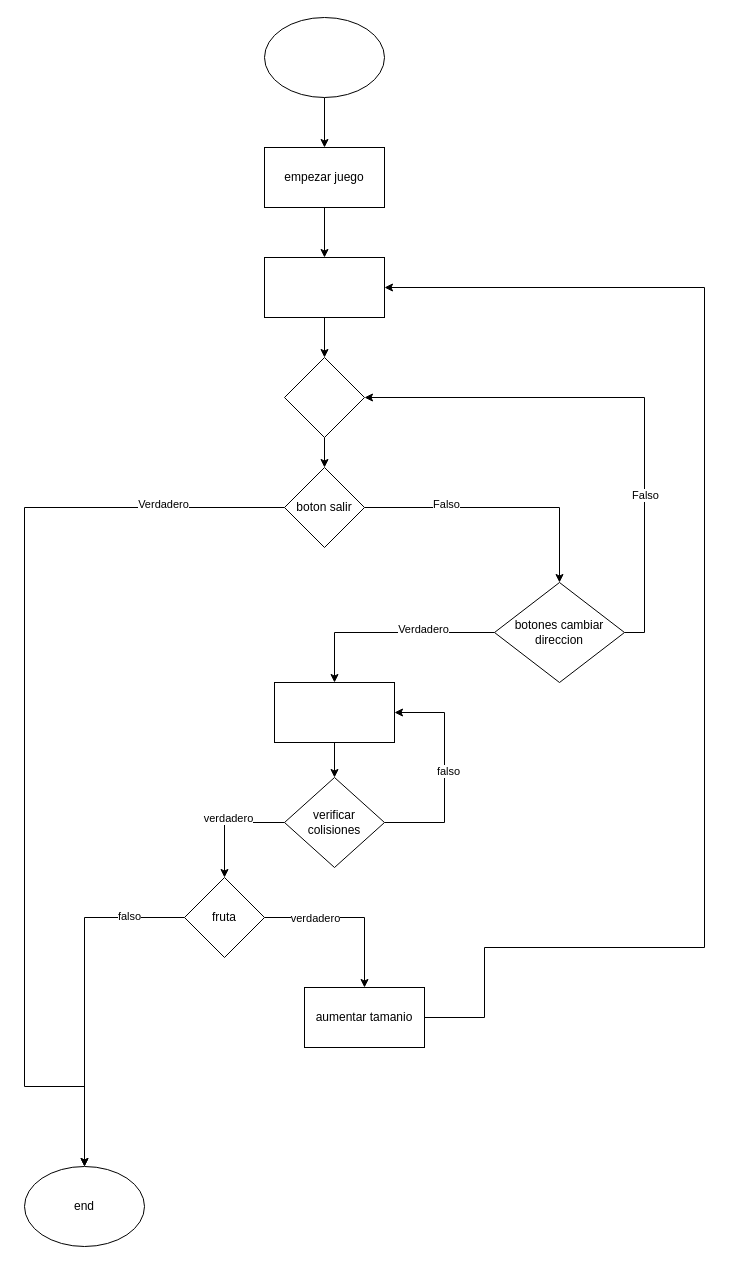
This 730x1264 diagram has some shape labels left out. The shapes that lost their labels are listed below. From the top down, each one's centre as x and y in pixels, then its label:
(x=324, y=57): start
(x=324, y=287): dibujar
(x=324, y=397): input
(x=334, y=712): mover al snake
